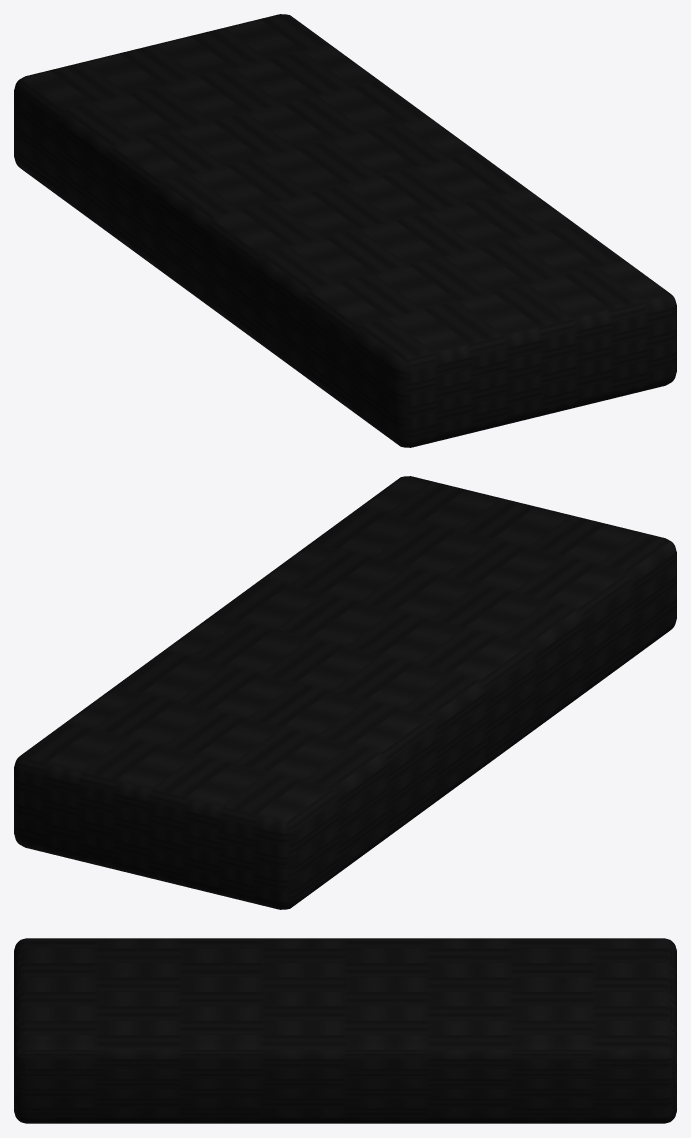
File: DR_Asterion_Collider.fbx
3 views of the same model, one above another, from view 1: azimuth 30°, elevation 25°; view 2: azimuth 150°, elevation 25°; view 3: azimuth 270°, elevation 25° (orthographic). The views are drawn at different scales.
Visible parts, largest first — view 1: UCX_DR_Asterion_Chassis; view 2: UCX_DR_Asterion_Chassis; view 3: UCX_DR_Asterion_Chassis.
Part boxes in pixels (left/top/right/bottom): UCX_DR_Asterion_Chassis: left=14, top=14, right=676, bottom=447; UCX_DR_Asterion_Chassis: left=14, top=476, right=676, bottom=909; UCX_DR_Asterion_Chassis: left=14, top=938, right=676, bottom=1123.
Size of the model in its own units: 174 by 55 by 422.
1 material, 1 textured.
